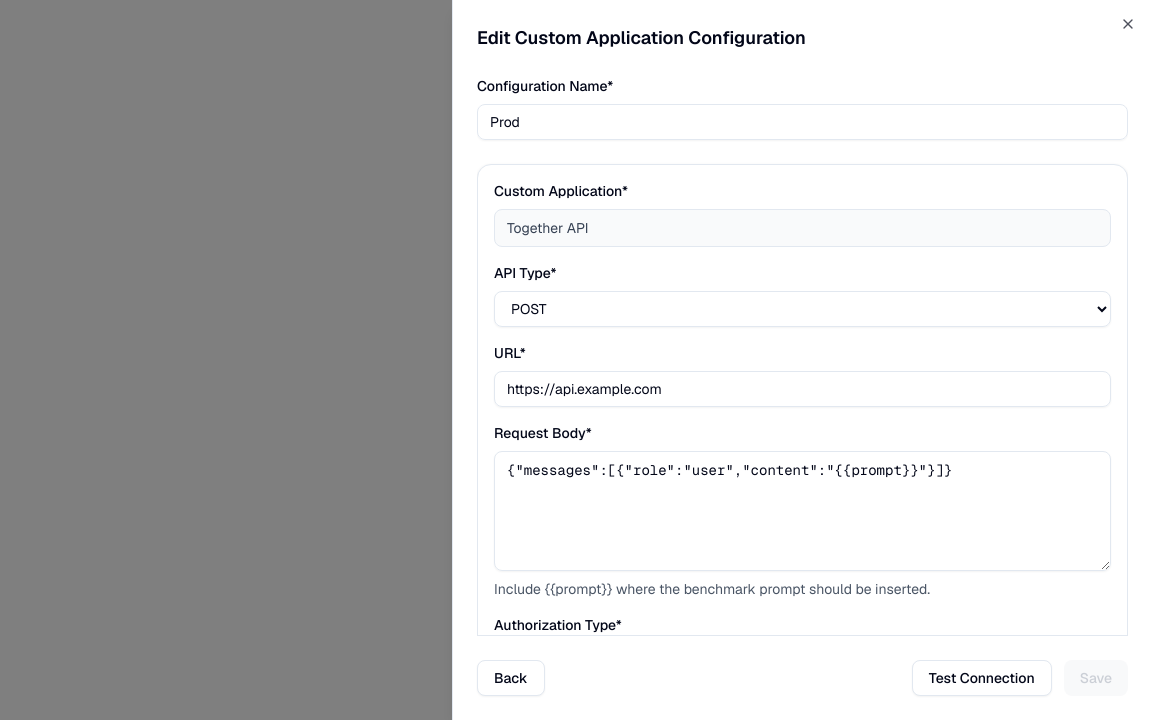
Test: EditCustomApplicationSheet › shows connection test error in response panel
This screenshot has width=1152, height=720.
Click the button "Test Connection" at (982,678), box top-left (912, 660), bottom-right (1052, 696)
(page scrolled)
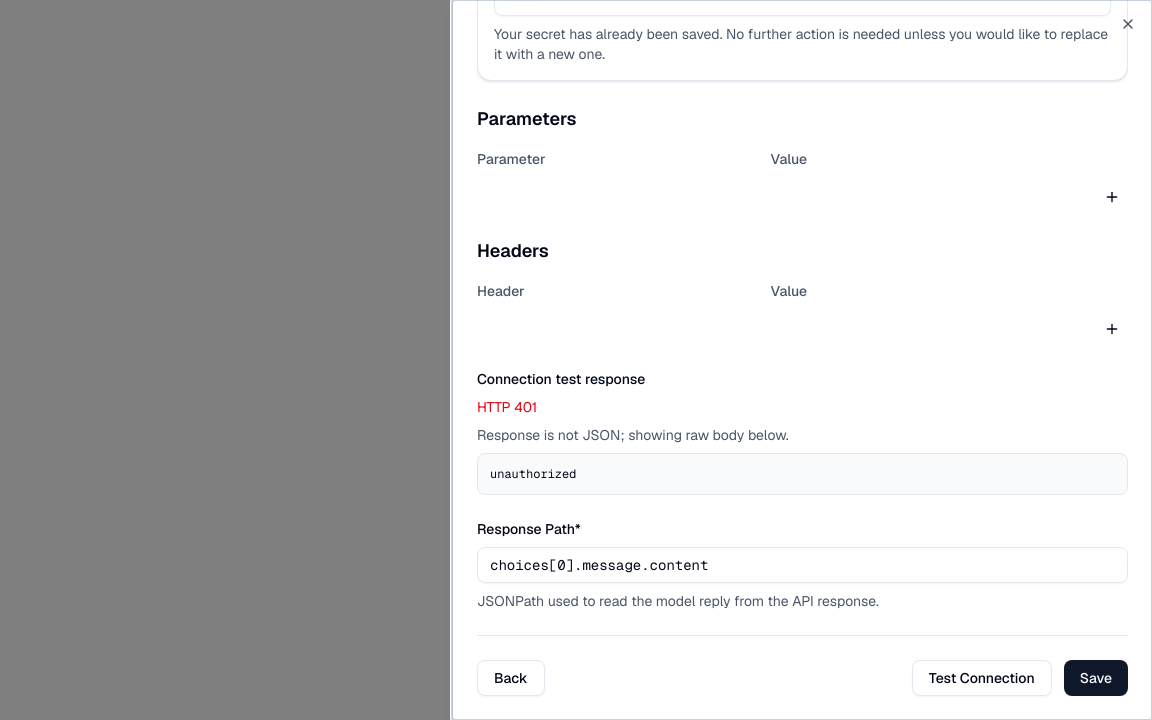
Expected: the text "HTTP 401" is shown, top-left (477, 398), bottom-right (537, 416)
Expected: the text "Response is not JSON; showing raw body below." is shown, top-left (477, 426), bottom-right (789, 444)
Expected: the text "unauthorized" is shown, top-left (490, 466), bottom-right (576, 482)
